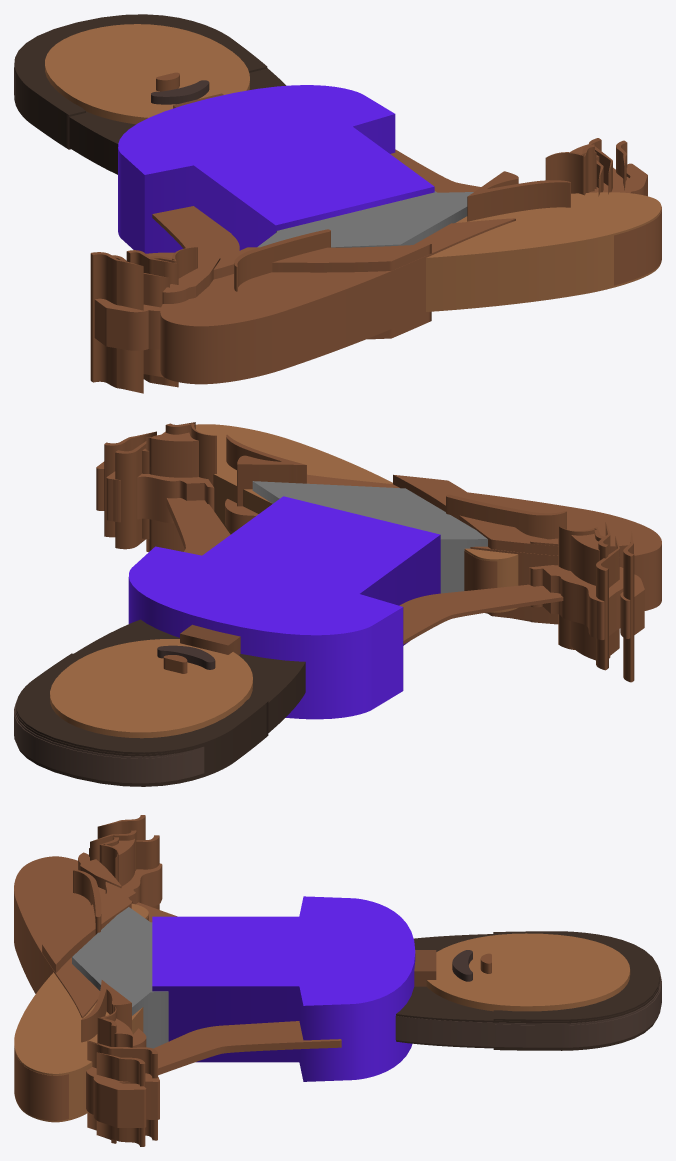
The model's file is emoji_u1f9d8_1f3fe_200d_2640.glb.
3 renders of one model, top to bottom at view 1: azimuth 30°, elevation 25°; view 2: azimuth 150°, elevation 25°; view 3: azimuth 270°, elevation 25°, orthographic. The views are drawn at different scales.
Parts seen in each view (by area): view 1: emoji_u1f9d8_1f3fe_200d_2640; view 2: emoji_u1f9d8_1f3fe_200d_2640; view 3: emoji_u1f9d8_1f3fe_200d_2640.
Part boxes in pixels (x1,y1,x2,y2): emoji_u1f9d8_1f3fe_200d_2640: (14, 14, 661, 393); emoji_u1f9d8_1f3fe_200d_2640: (14, 422, 661, 786); emoji_u1f9d8_1f3fe_200d_2640: (14, 815, 661, 1146).
Size of the model in its own units: 0.0294 by 0.0068 by 0.034.
